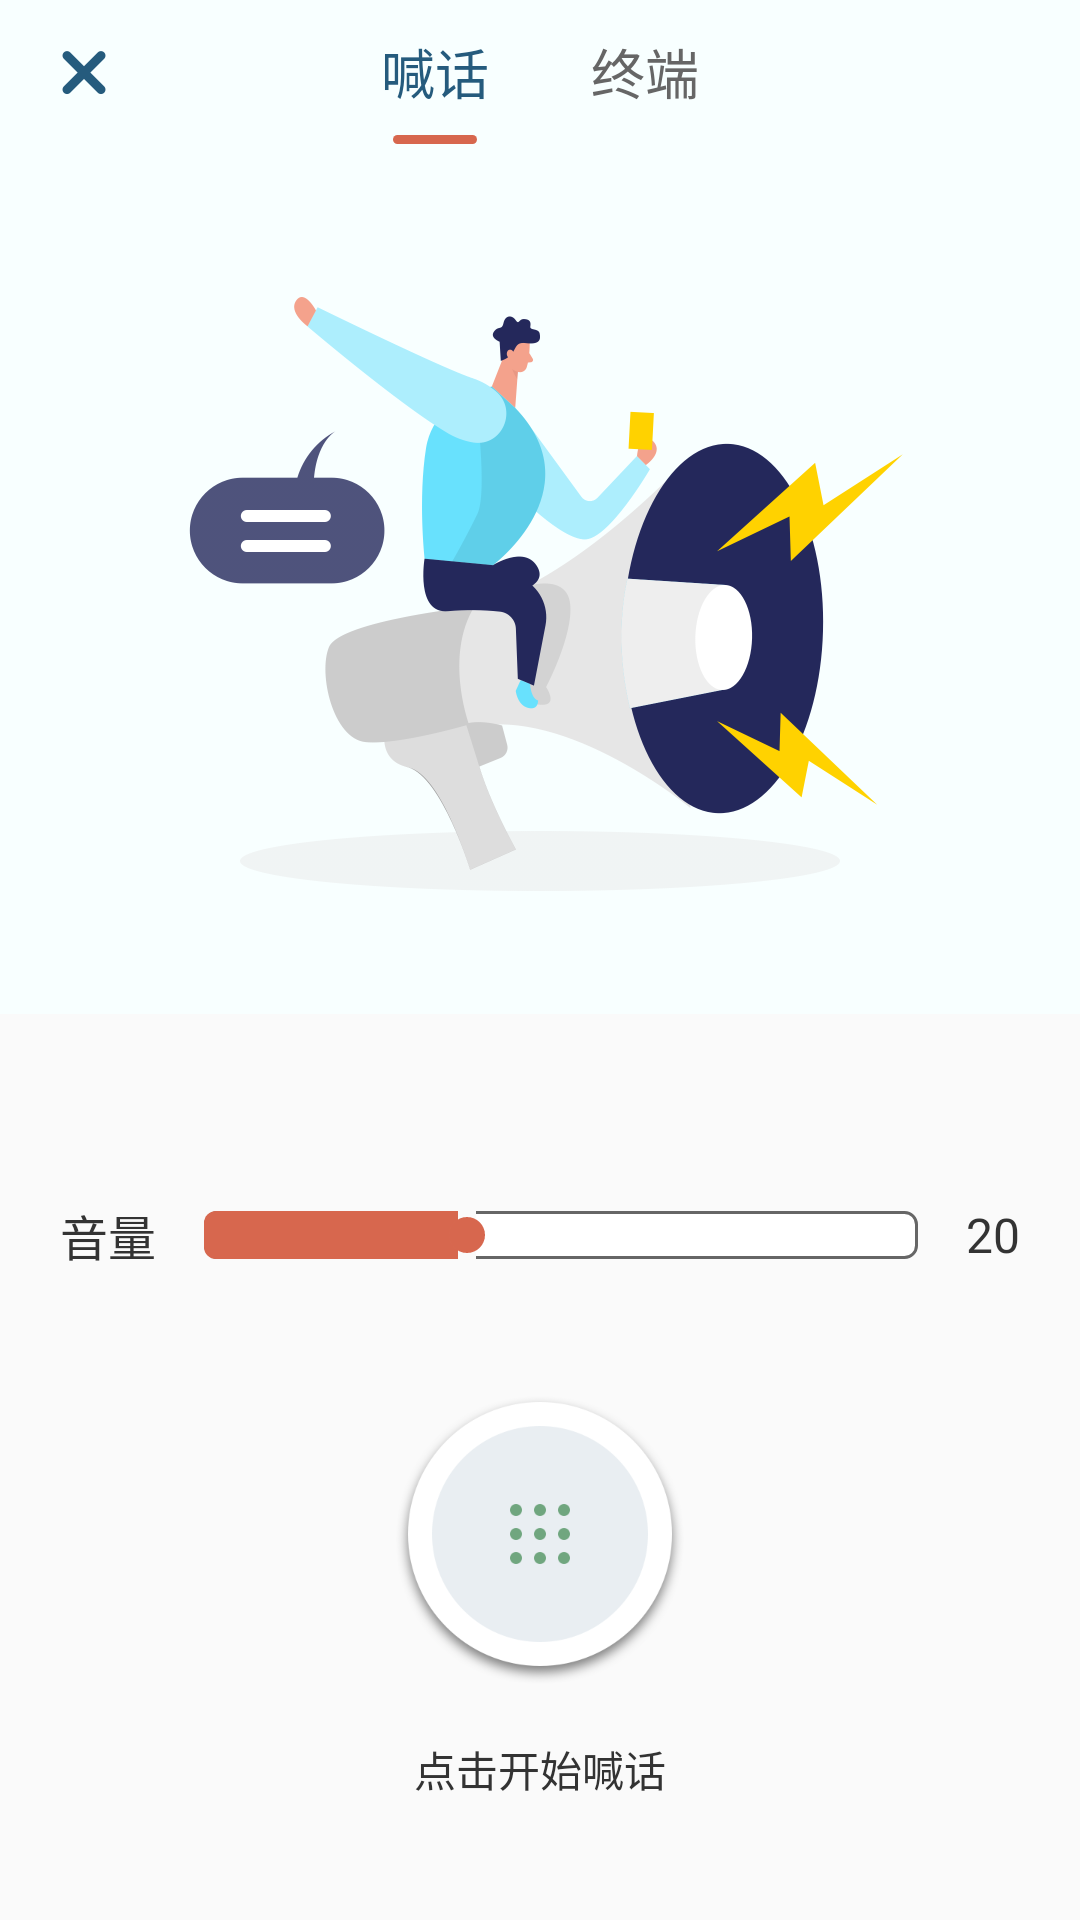

Icon bounding boxes for this 1080 x 1920 phone screenshot, format (x1, y1, x2, y2):
shout close: (62, 51, 106, 94)
